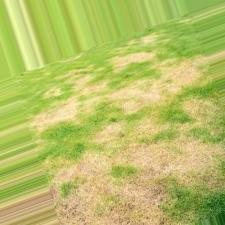patch: (129, 147, 215, 169), (78, 154, 121, 196), (117, 89, 162, 105), (112, 56, 150, 61)
